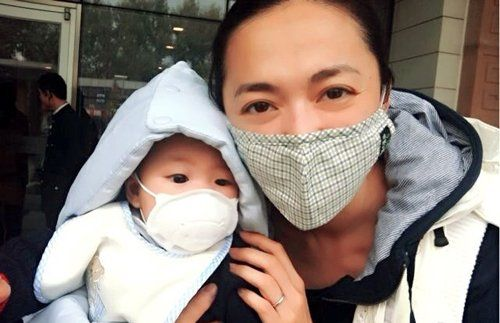face_mask: (226, 8, 383, 228), (145, 145, 237, 252)
